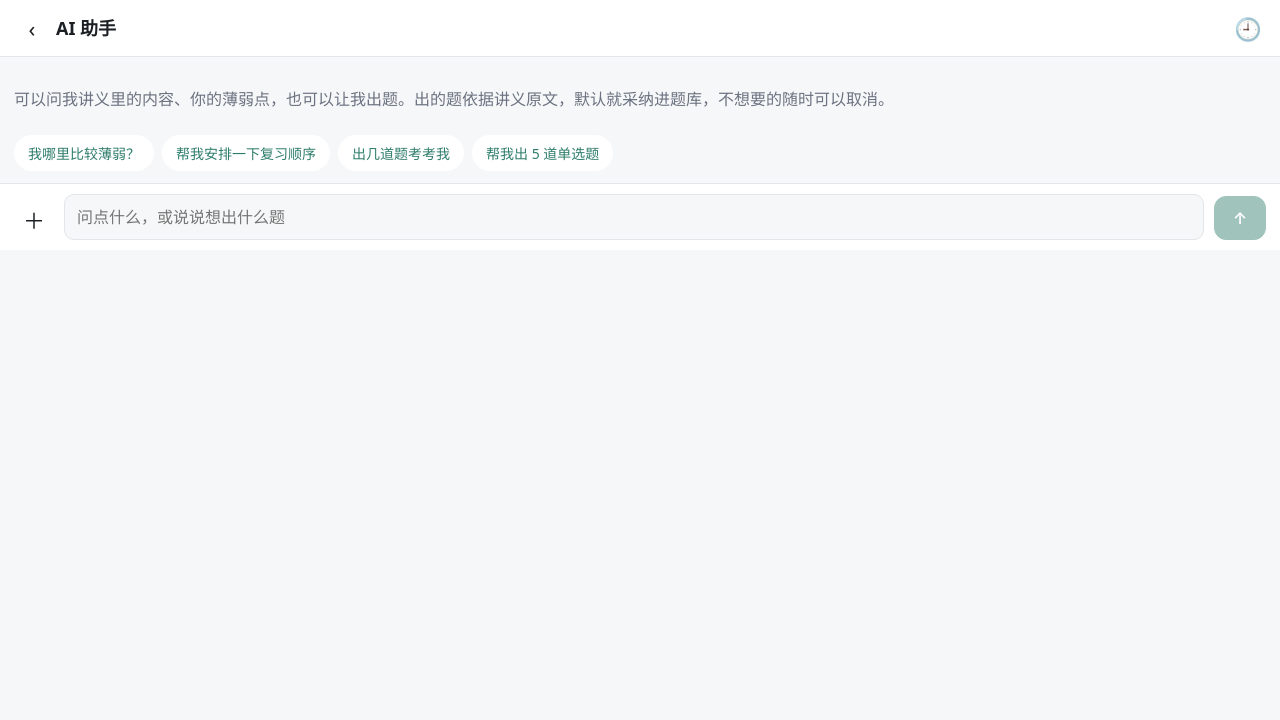
study assistant › AgentView › question-writing › a refused change shows the reason and the switch goes back
Click the button with class "chip" showing "帮我出 5 道单选题".
click(543, 153)  # box [472,135,613,171]
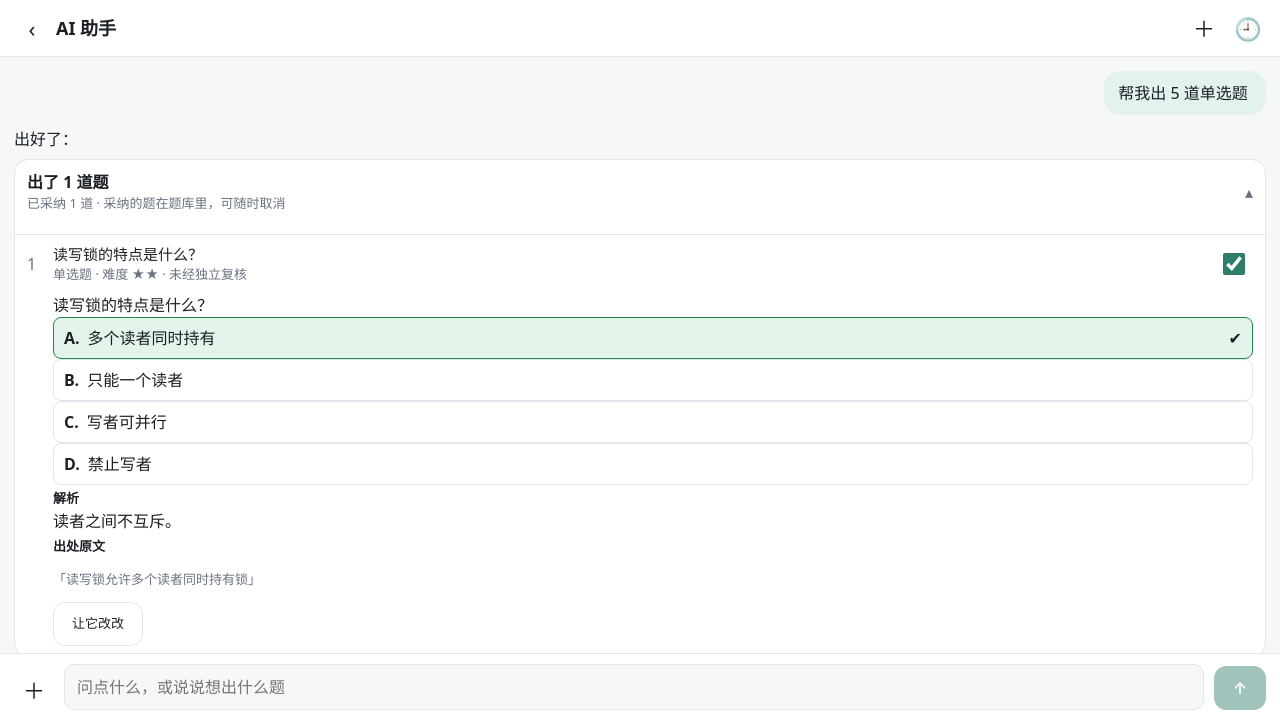
Click the switch with test id "draft-switch-D1".
click(1234, 264)  # box [1223,252,1245,274]
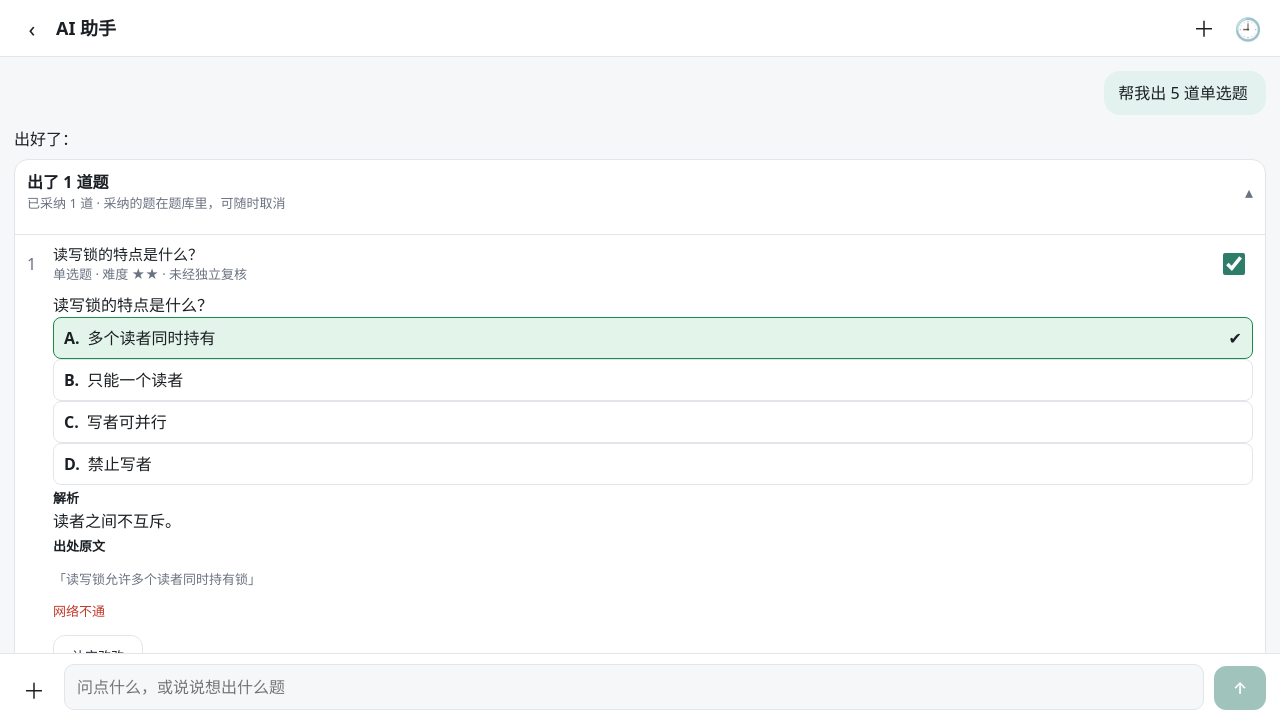
Expected: the element with test id "draft-group" shows "网络不通", [53,602,105,620]
